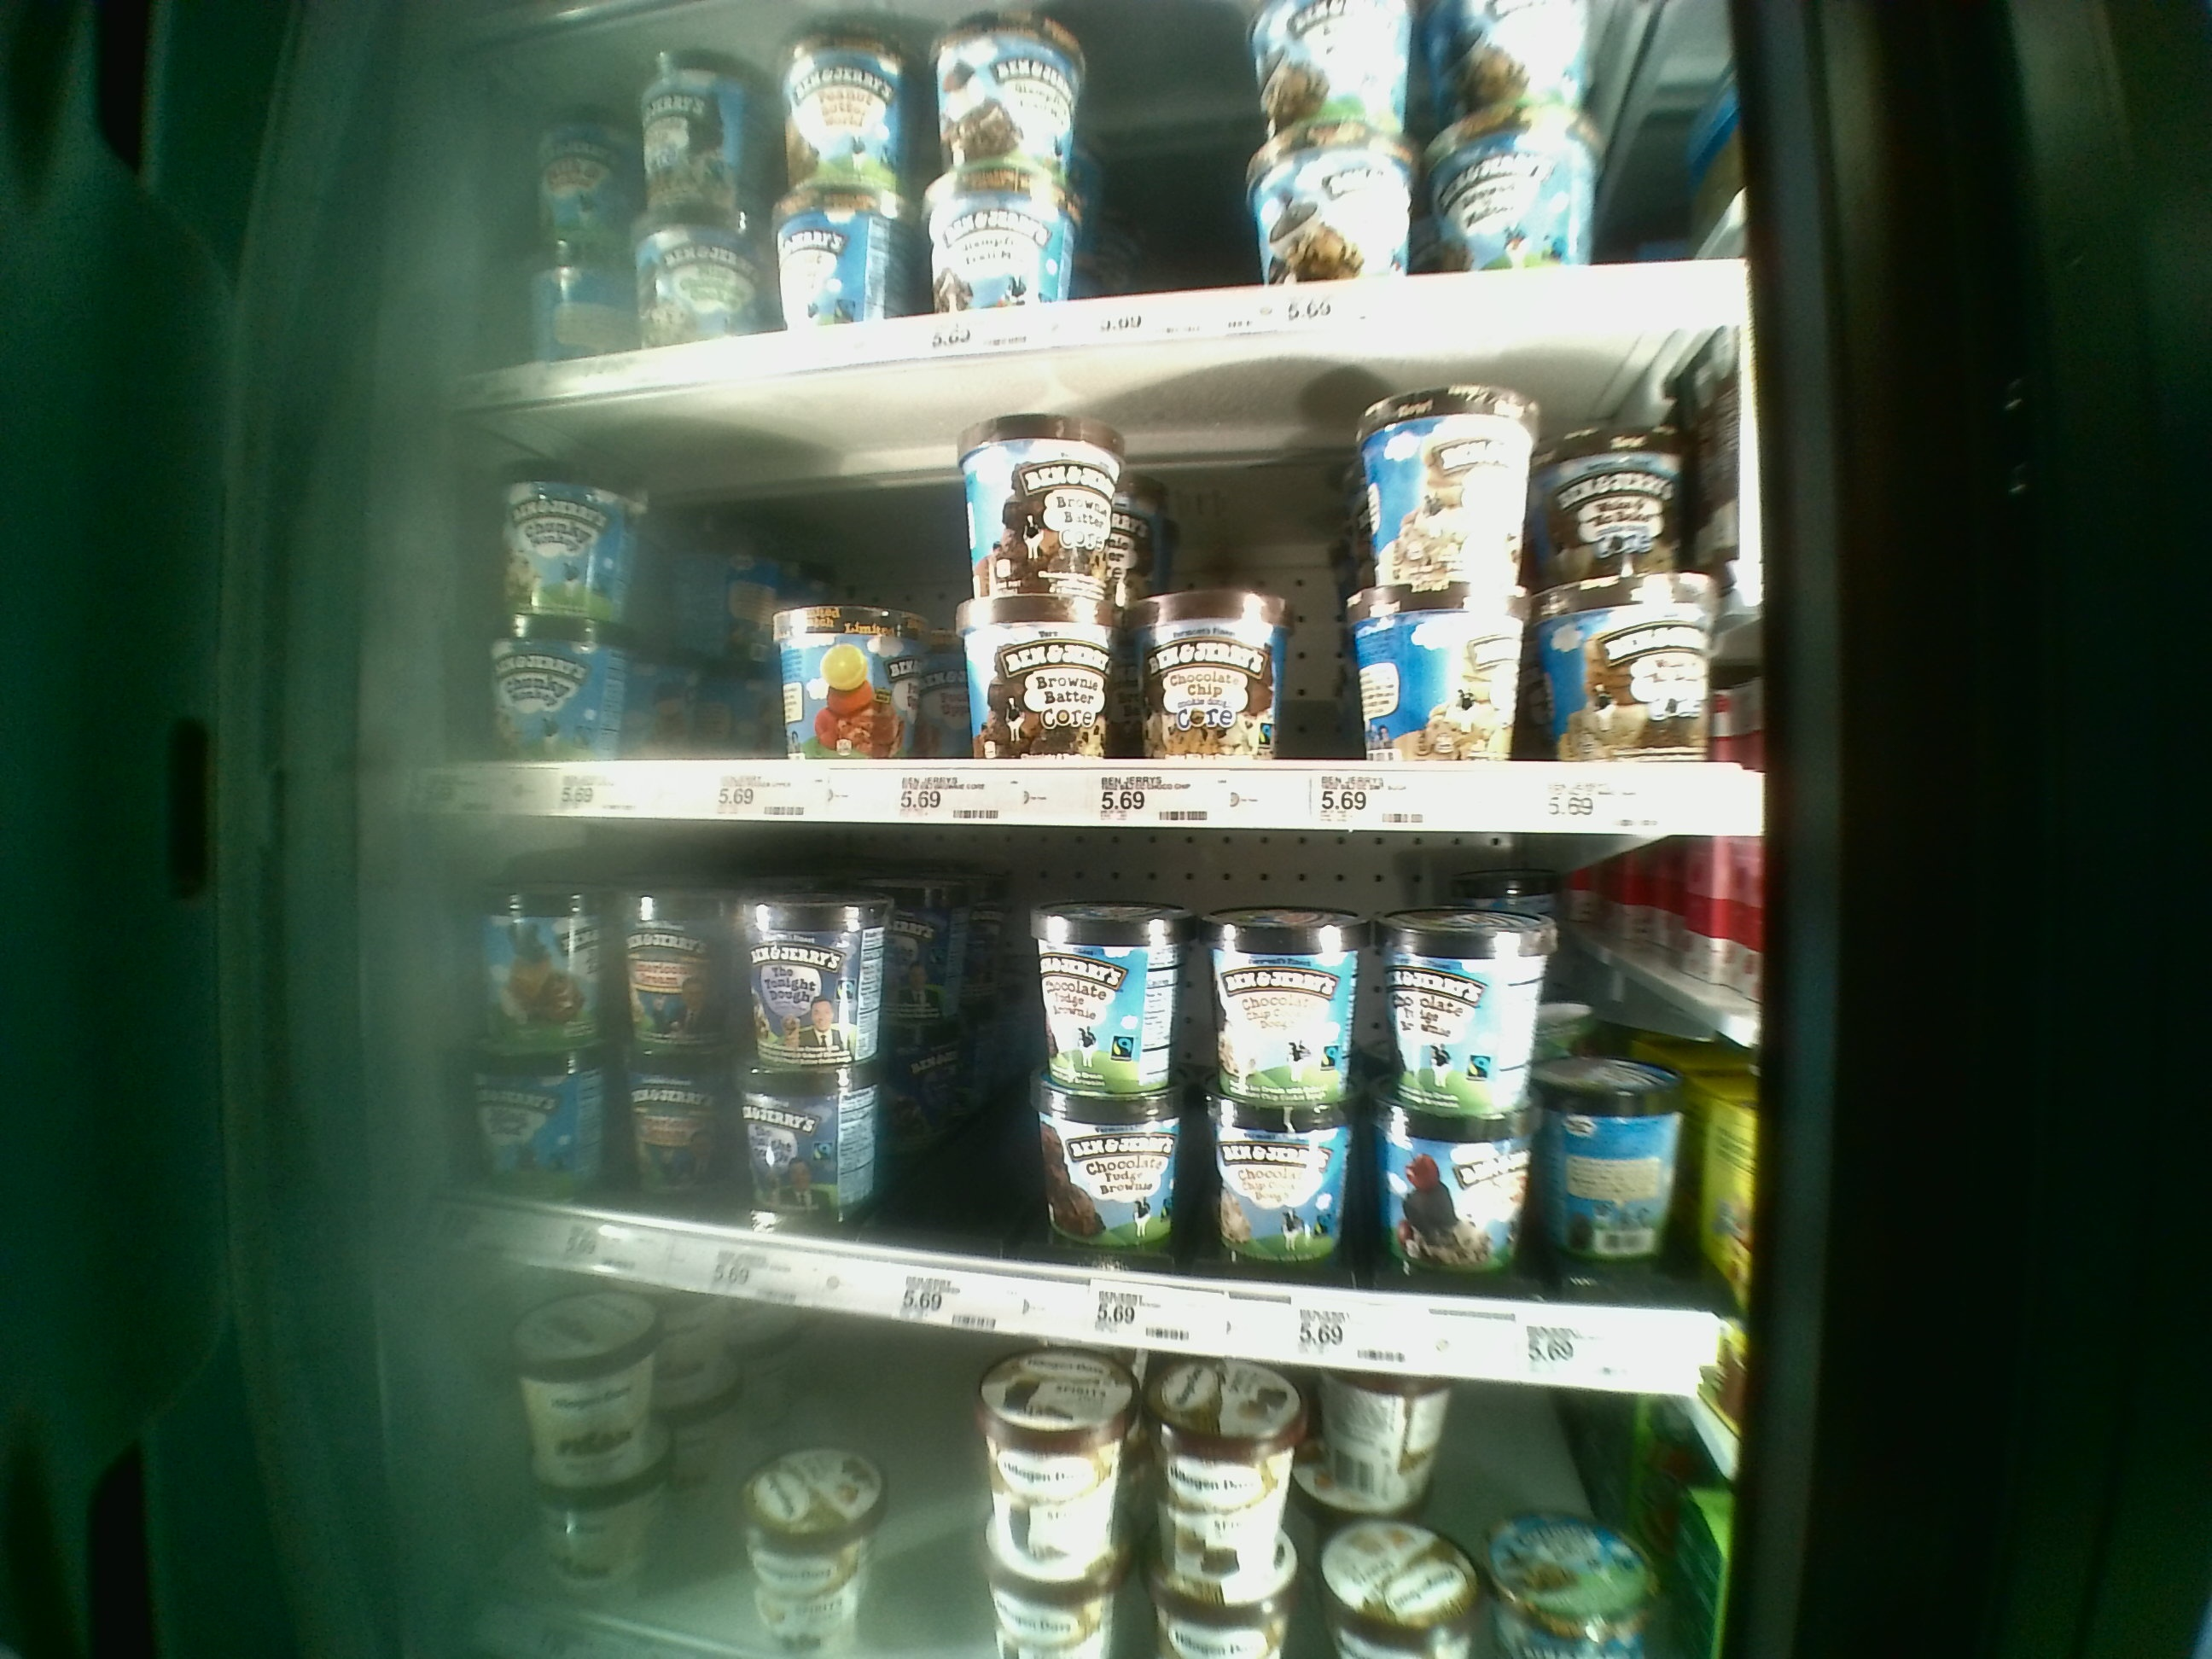shelf: (449, 828, 1752, 1391), (455, 319, 1757, 833)
